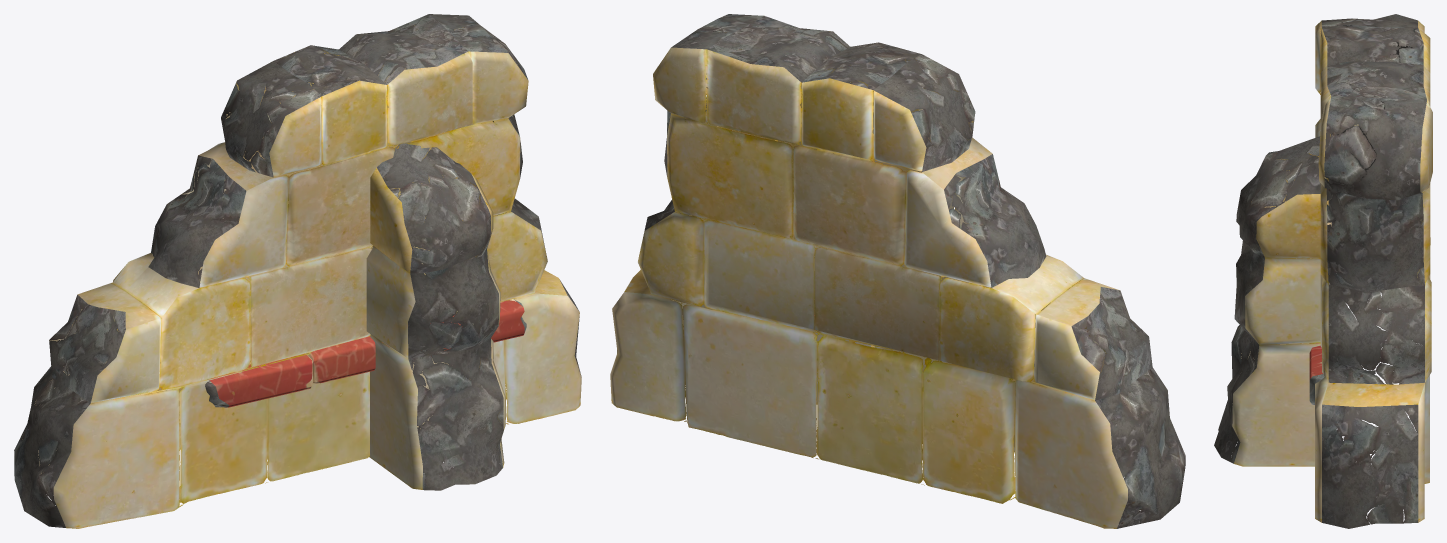
3 renders of one model, left to right at view 1: azimuth 30°, elevation 25°; view 2: azimuth 150°, elevation 25°; view 3: azimuth 270°, elevation 25°, orthographic.
Visible parts, largest first — view 1: SM_Menaphite_Ruins_Wall_Piece_01_LOD0; view 2: SM_Menaphite_Ruins_Wall_Piece_01_LOD0; view 3: SM_Menaphite_Ruins_Wall_Piece_01_LOD0.
Part boxes in pixels (x1,y1,x2,y2): SM_Menaphite_Ruins_Wall_Piece_01_LOD0: [14, 14, 581, 528]; SM_Menaphite_Ruins_Wall_Piece_01_LOD0: [610, 14, 1185, 528]; SM_Menaphite_Ruins_Wall_Piece_01_LOD0: [1214, 14, 1432, 528].
Bounding box in the file's own units: 5.71 × 3.81 × 2.
3 materials, 3 textured.
